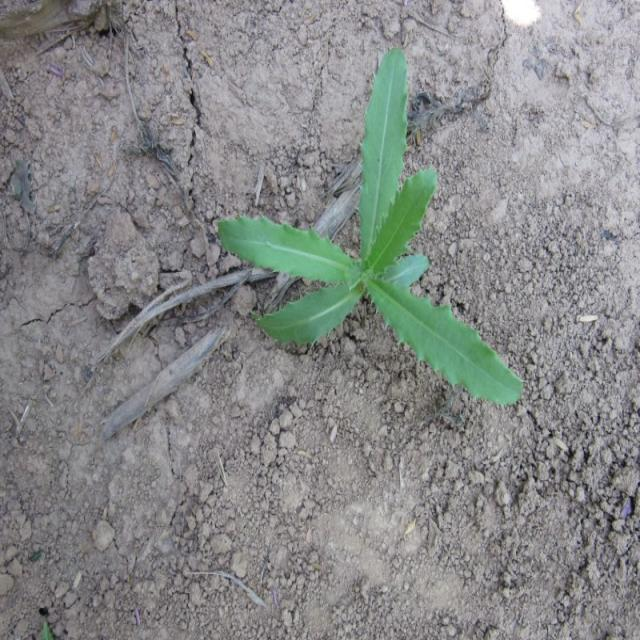field_thistle: (264, 97, 558, 399)
